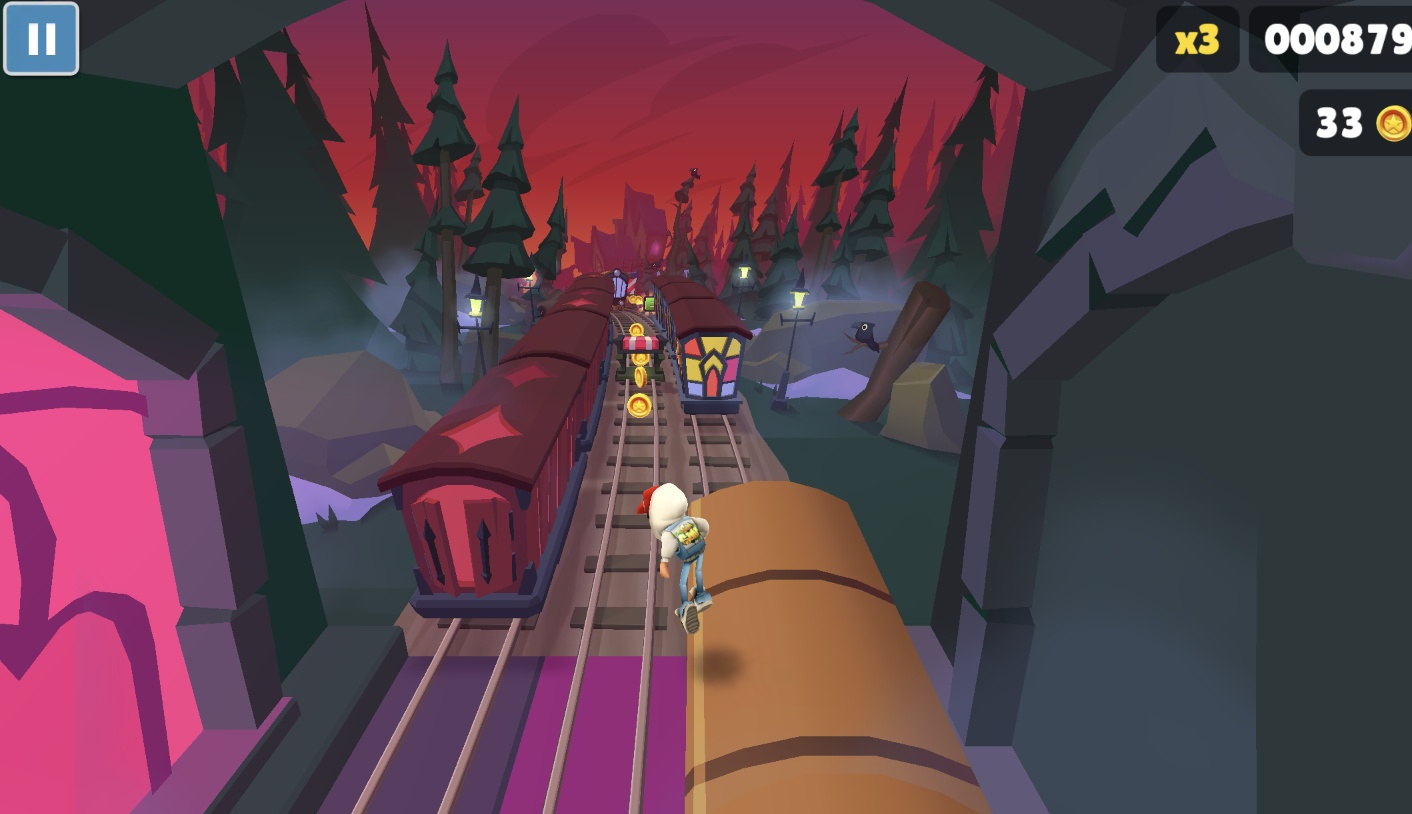ground_barrier: (622, 335, 670, 381)
overhead_barrier: (626, 271, 640, 296)
train: (693, 495, 1019, 814), (384, 274, 621, 635), (653, 275, 764, 417), (612, 269, 639, 303)
